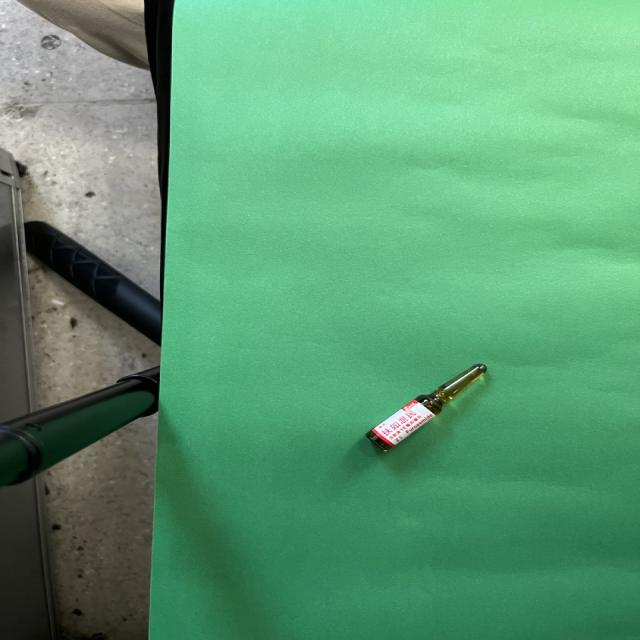Ampoules: (366, 364, 486, 451)
